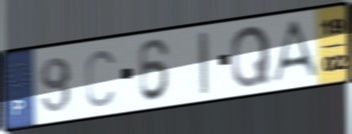6: (136, 36, 171, 104)
9: (38, 55, 72, 114)
A: (270, 18, 322, 86)
C: (83, 47, 117, 110)
I: (195, 29, 211, 98)
Q: (229, 23, 273, 91)
